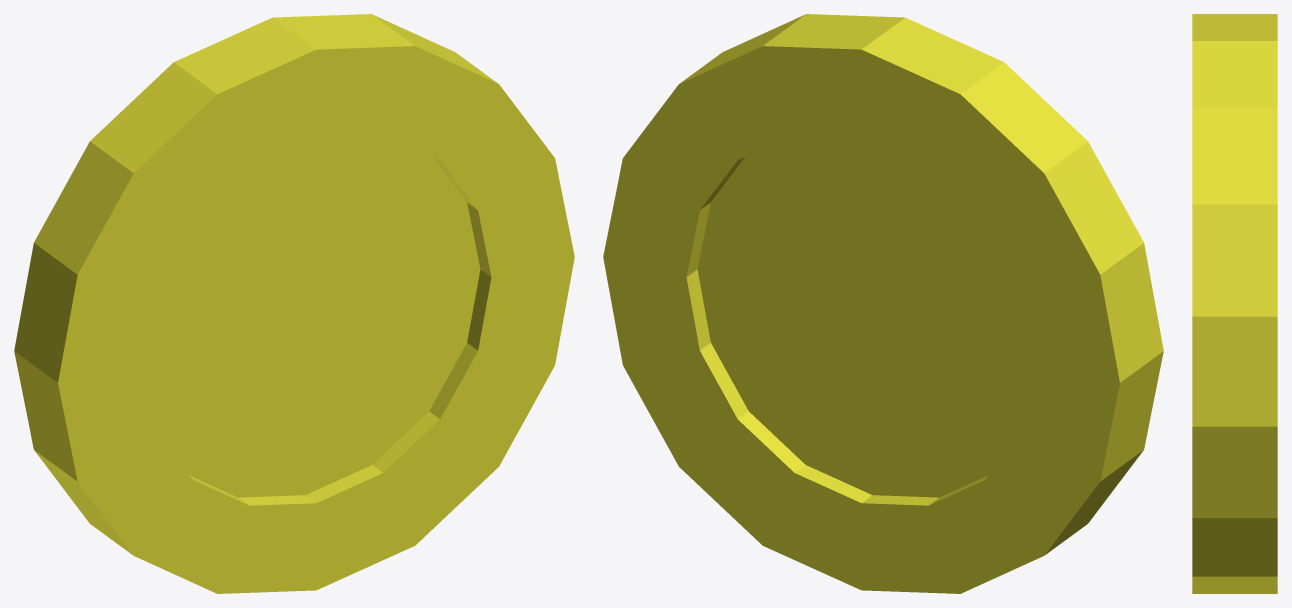
The model's file is coin.fbx.
The picture shows the model from 3 angles, left to right: view 1: azimuth 30°, elevation 25°; view 2: azimuth 150°, elevation 25°; view 3: azimuth 270°, elevation 25°; orthographic projection. The views are drawn at different scales.
Visible parts, largest first — view 1: coin; view 2: coin; view 3: coin.
Part boxes in pixels (x1=…): coin: x1=14, y1=14, x2=574, y2=593; coin: x1=603, y1=14, x2=1163, y2=593; coin: x1=1192, y1=14, x2=1277, y2=593.
Size of the model in its own units: 59 by 59 by 8.66.
